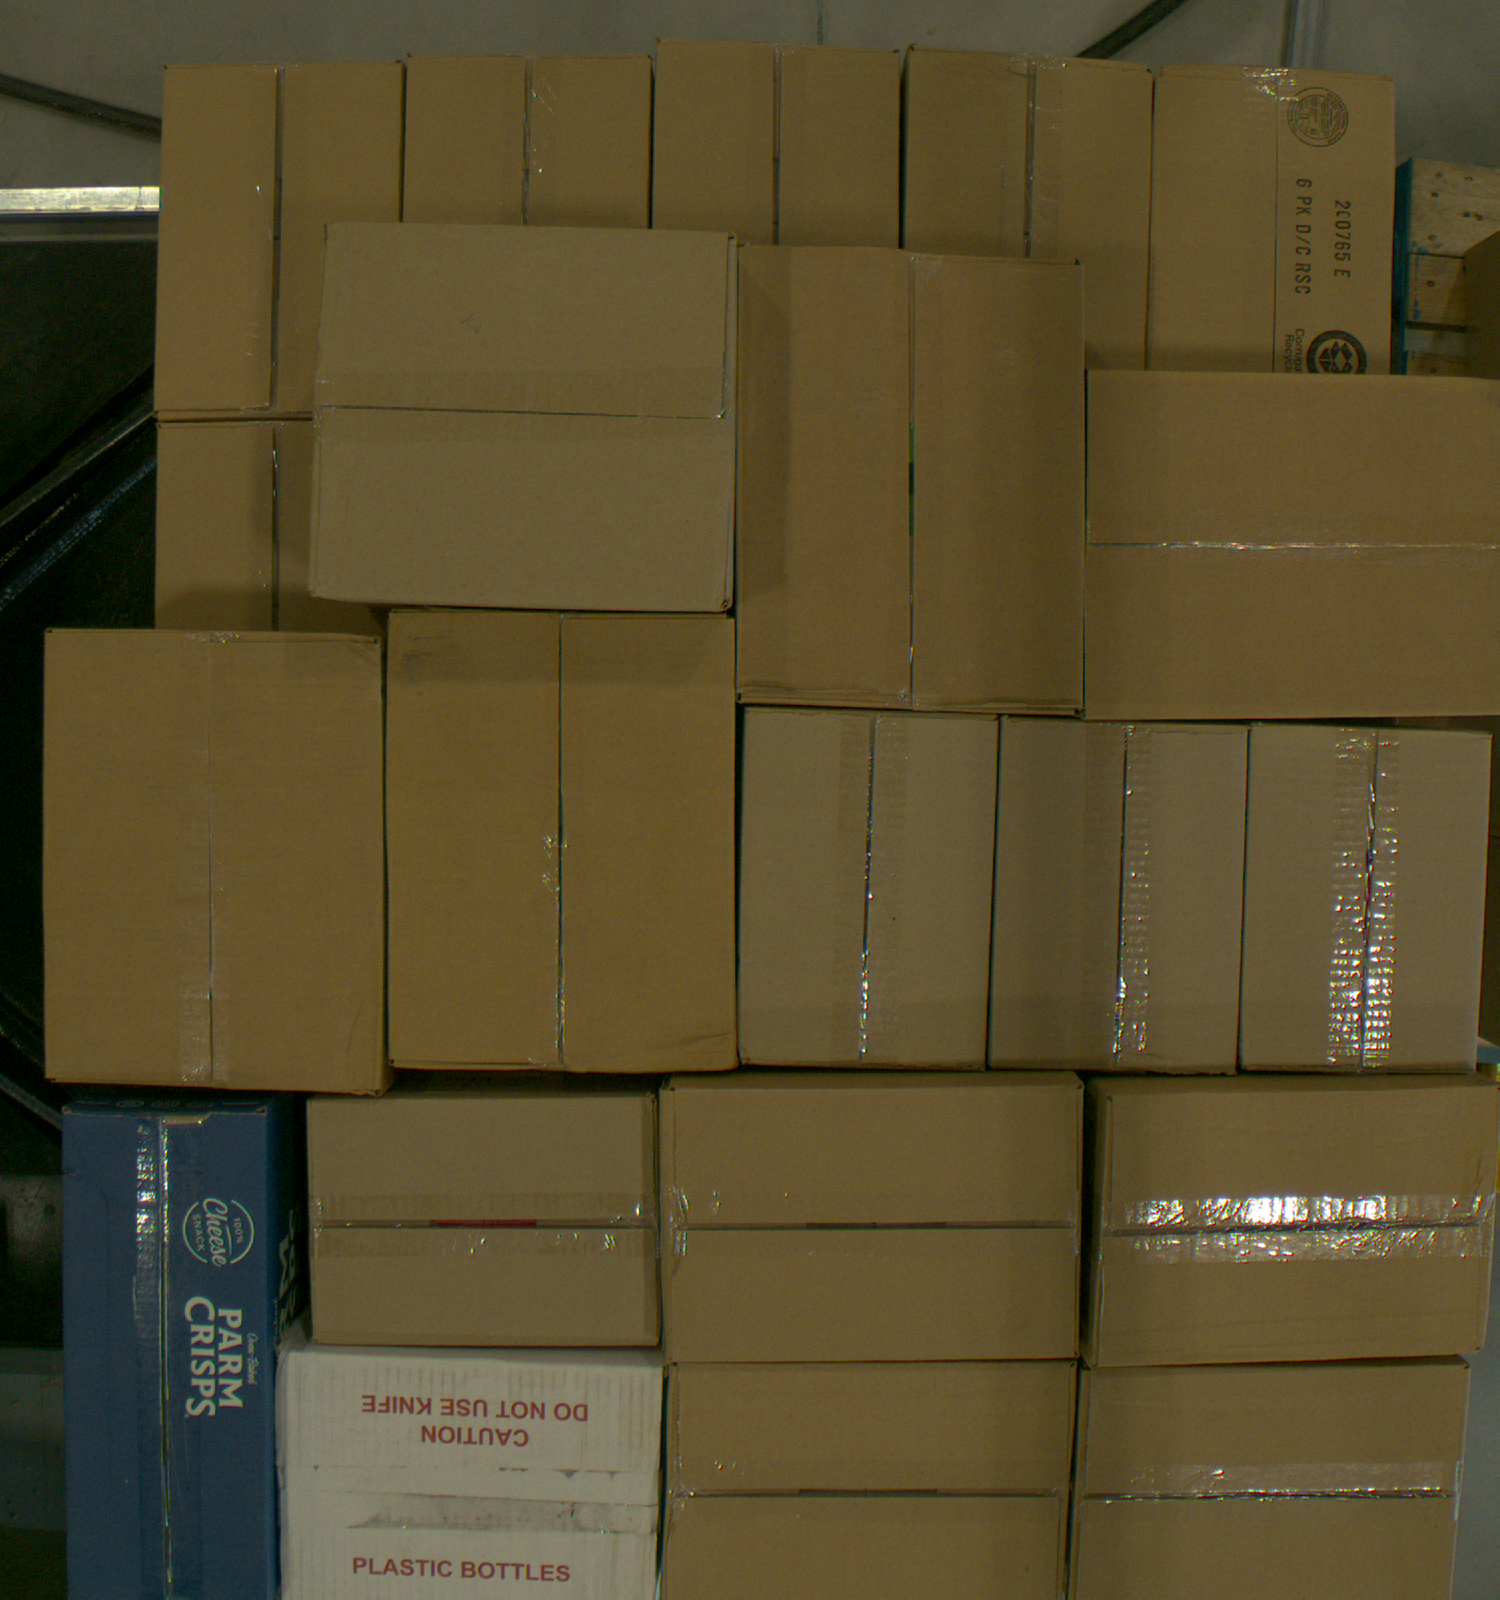box top: (312, 223, 737, 612), (737, 244, 1086, 718), (388, 612, 736, 1074), (49, 632, 388, 1095), (1086, 369, 1500, 720), (664, 1078, 1088, 1355), (1094, 1083, 1500, 1366), (62, 1114, 273, 1600), (663, 1363, 1078, 1600), (276, 1350, 663, 1600), (1069, 1365, 1473, 1600), (985, 713, 1246, 1076), (737, 708, 995, 1070), (155, 61, 403, 421), (1239, 722, 1492, 1071), (309, 1093, 660, 1343), (905, 47, 1150, 369), (1146, 63, 1394, 375), (654, 39, 902, 250), (156, 423, 388, 634), (405, 52, 653, 230)
